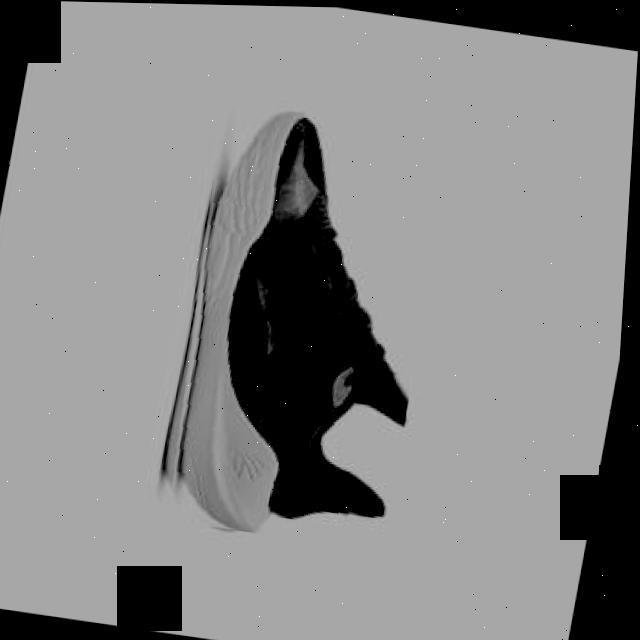shoe: (153, 98, 460, 551)
